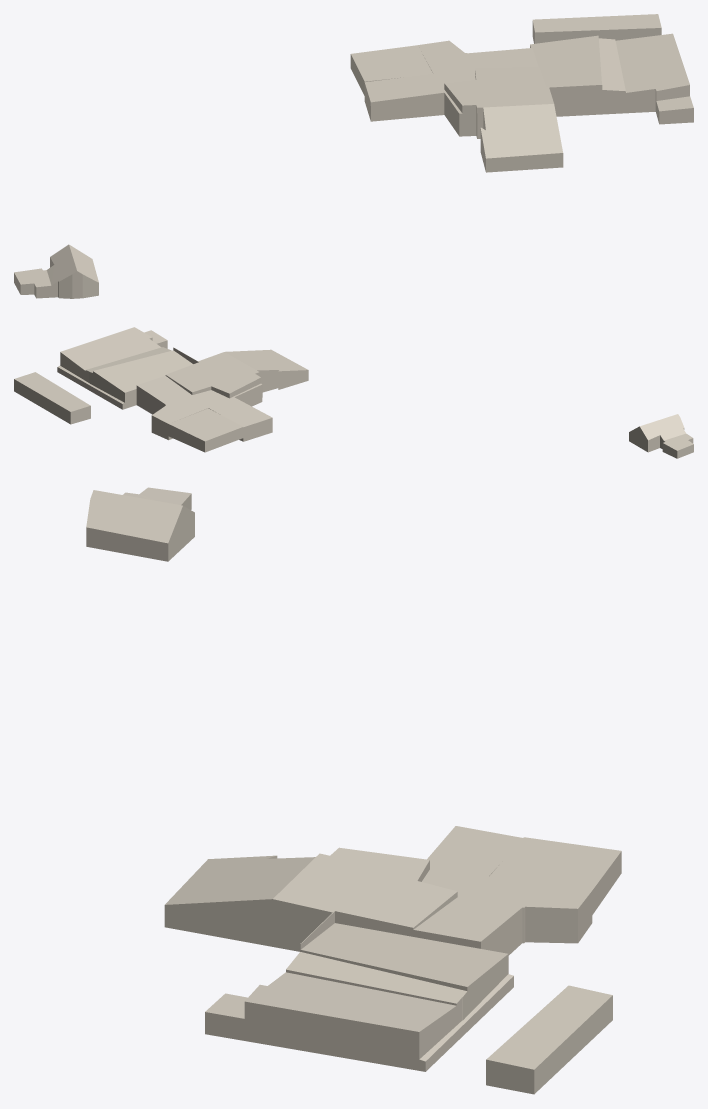
3 views of the same model, one above another, from view 1: azimuth 30°, elevation 25°; view 2: azimuth 150°, elevation 25°; view 3: azimuth 270°, elevation 25° (orthographic). The views are drawn at different scales.
Bounding box in the file's own units: 169 × 8.89 × 67.11.
